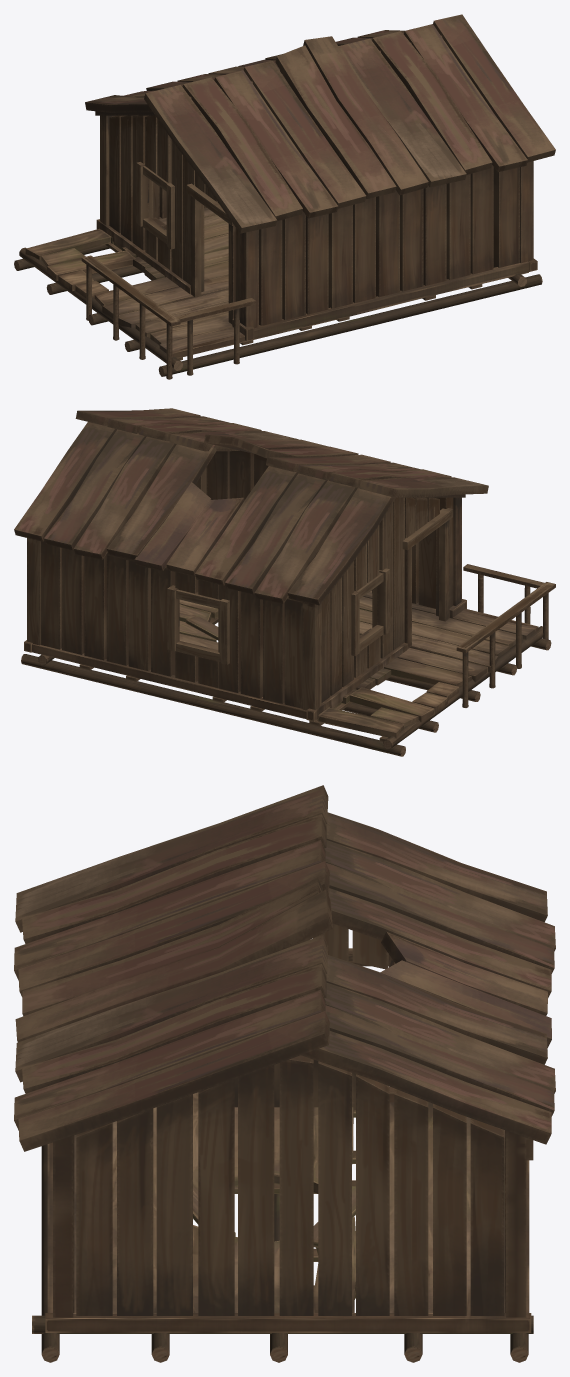
The model's file is TreeHouse.fbx.
3 views of the same model, one above another, from view 1: azimuth 30°, elevation 25°; view 2: azimuth 150°, elevation 25°; view 3: azimuth 270°, elevation 25° (orthographic). The views are drawn at different scales.
Visible parts, largest first — view 1: TreeHouse_top, TreeHouse_bot; view 2: TreeHouse_top, TreeHouse_bot; view 3: TreeHouse_top, TreeHouse_bot.
Part boxes in pixels (left/top/right/bottom): TreeHouse_top: left=81, top=14, right=555, bottom=379; TreeHouse_bot: left=14, top=208, right=542, bottom=376; TreeHouse_top: left=14, top=408, right=555, bottom=710; TreeHouse_bot: left=21, top=590, right=551, bottom=756; TreeHouse_top: left=14, top=785, right=555, bottom=1317; TreeHouse_bot: left=32, top=1086, right=533, bottom=1362.
Size of the model in its own units: 516 by 282 by 388.
